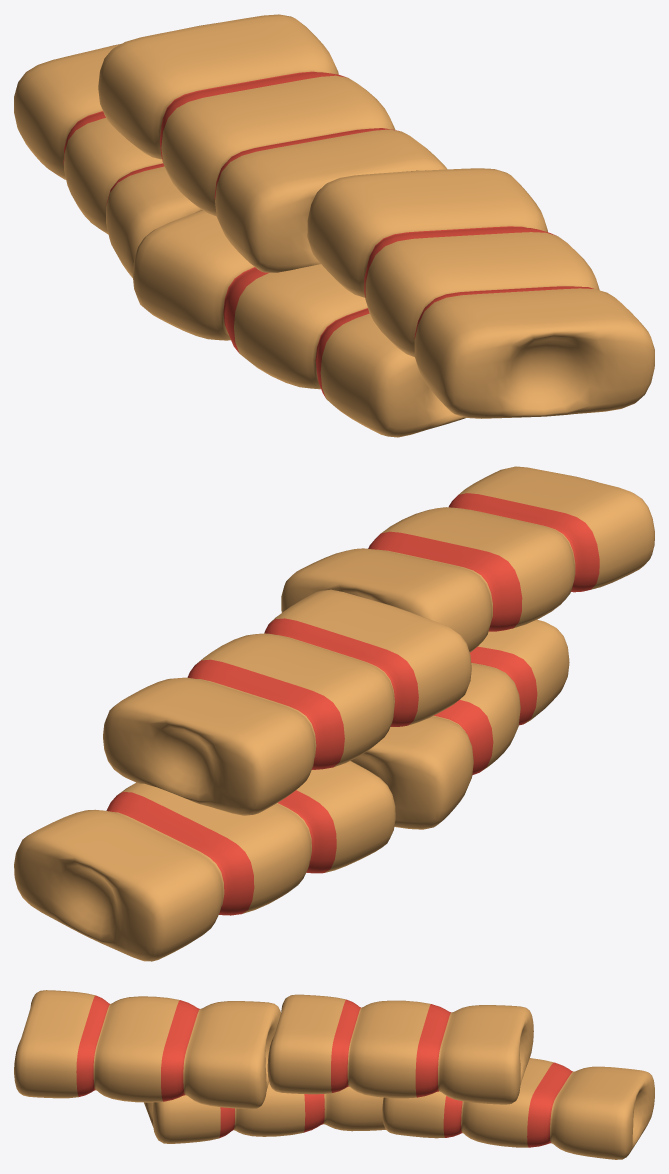
Rendered from Heuballen_Viele.fbx.
3 renders of one model, top to bottom at view 1: azimuth 30°, elevation 25°; view 2: azimuth 150°, elevation 25°; view 3: azimuth 270°, elevation 25°, orthographic. The views are drawn at different scales.
Parts seen in each view (by area): view 1: Cube.112; view 2: Cube.112; view 3: Cube.112.
Boxes of the visible parts, x1,y1,x2,y2 form: Cube.112: [14, 14, 654, 437]; Cube.112: [14, 466, 654, 961]; Cube.112: [14, 990, 654, 1159].
Size of the model in its own units: 286 by 880 by 182.
